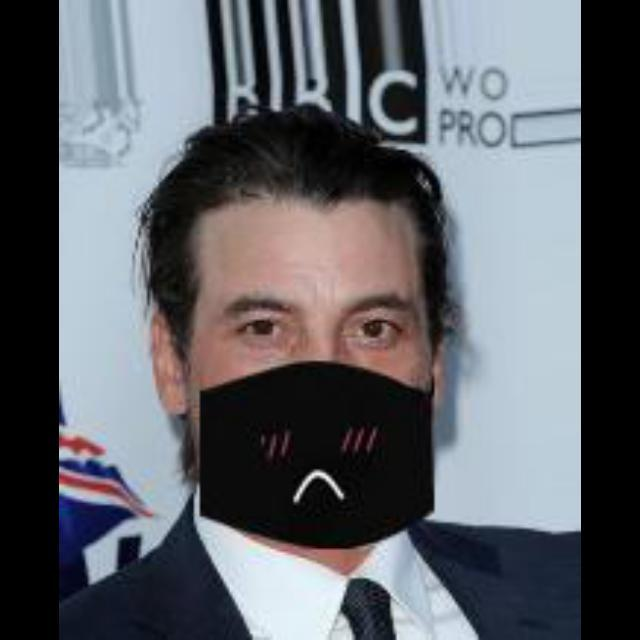suspicion: (128, 103, 480, 563)
